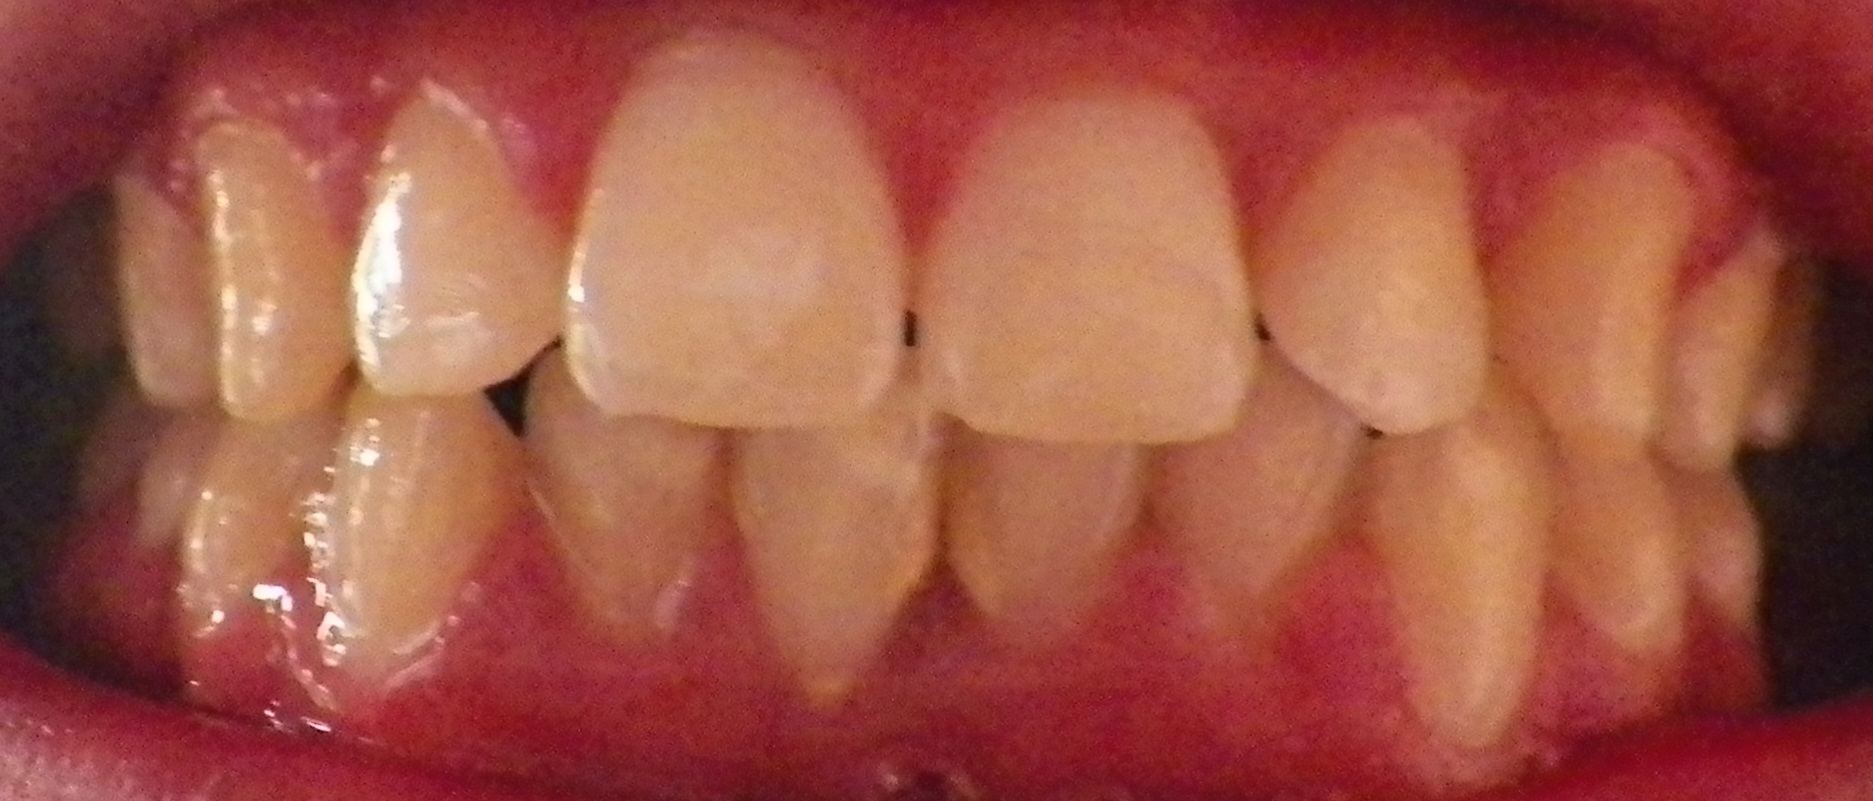boca: (36, 66, 1804, 737)
